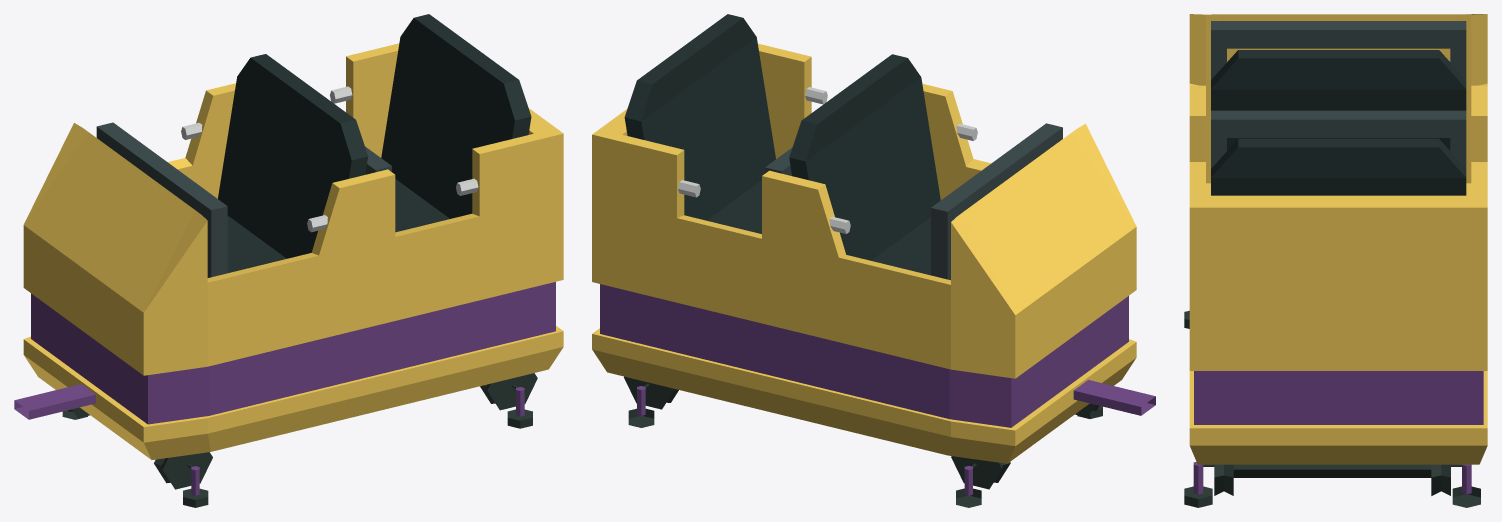
The model's file is RollerCoaster_Wagon_B.fbx.
The picture shows the model from 3 angles, left to right: view 1: azimuth 30°, elevation 25°; view 2: azimuth 150°, elevation 25°; view 3: azimuth 270°, elevation 25°; orthographic projection. The views are drawn at different scales.
Parts seen in each view (by area): view 1: RollerCoaster_Wagon_B, RC_Wagon_B_Belt.001, RC_Wagon_B_Wheel, RC_Wagon_B_Wheel.001, RC_Wagon_B_Lock.001; view 2: RollerCoaster_Wagon_B, RC_Wagon_B_Belt.001, RC_Wagon_B_Wheel, RC_Wagon_B_Wheel.001, RC_Wagon_B_Lock.001; view 3: RollerCoaster_Wagon_B, RC_Wagon_B_Belt.001, RC_Wagon_B_Belt, RC_Wagon_B_Wheel.001, RC_Wagon_B_Wheel_L, RC_Wagon_B_Wheel_L.001.
Boxes of the visible parts, x1,y1,x2,y2 form: RollerCoaster_Wagon_B: (14,14,563,495); RC_Wagon_B_Belt.001: (96,122,227,277); RC_Wagon_B_Wheel: (68,407,212,489); RC_Wagon_B_Wheel.001: (480,373,537,410); RC_Wagon_B_Lock.001: (330,86,478,195); RollerCoaster_Wagon_B: (592,14,1155,495); RC_Wagon_B_Belt.001: (931,123,1062,280); RC_Wagon_B_Wheel: (951,403,1099,489); RC_Wagon_B_Wheel.001: (624,376,678,409); RC_Wagon_B_Lock.001: (678,87,827,197); RollerCoaster_Wagon_B: (1189,14,1487,494); RC_Wagon_B_Belt.001: (1211,21,1466,79); RC_Wagon_B_Belt: (1211,110,1466,168); RC_Wagon_B_Wheel.001: (1214,464,1450,495); RC_Wagon_B_Wheel_L: (1184,486,1212,507); RC_Wagon_B_Wheel_L.001: (1452,486,1480,507).
Size of the model in its own units: 114 by 73.75 by 55.87.
